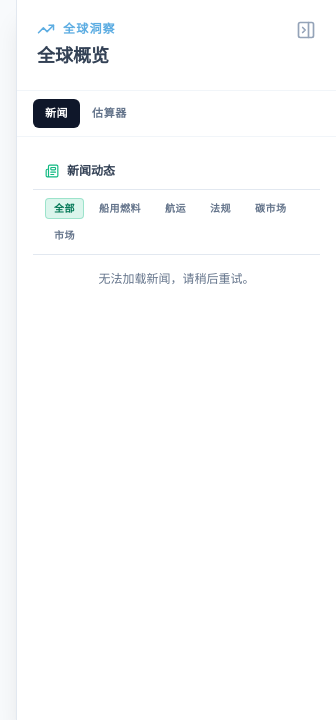
Test case: IntelligencePanel › includes B30 and B100 after the existing catalog products in forward references
The width and height of the screenshot is (336, 720).
Click the tab "估算器" at (109, 113), box [80,99,139,128]
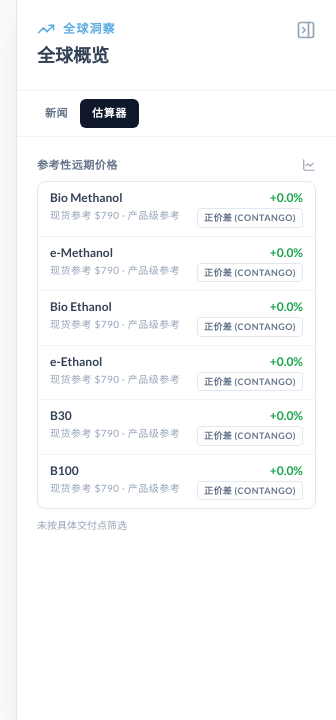
Expected: the text "B30" is shown, [50,408,72,423]
Expected: the text "B100" is shown, [50,462,79,478]
